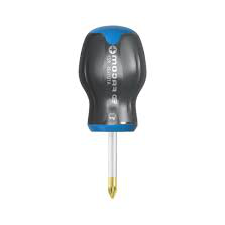Screwdriver: (73, 20, 151, 206)
